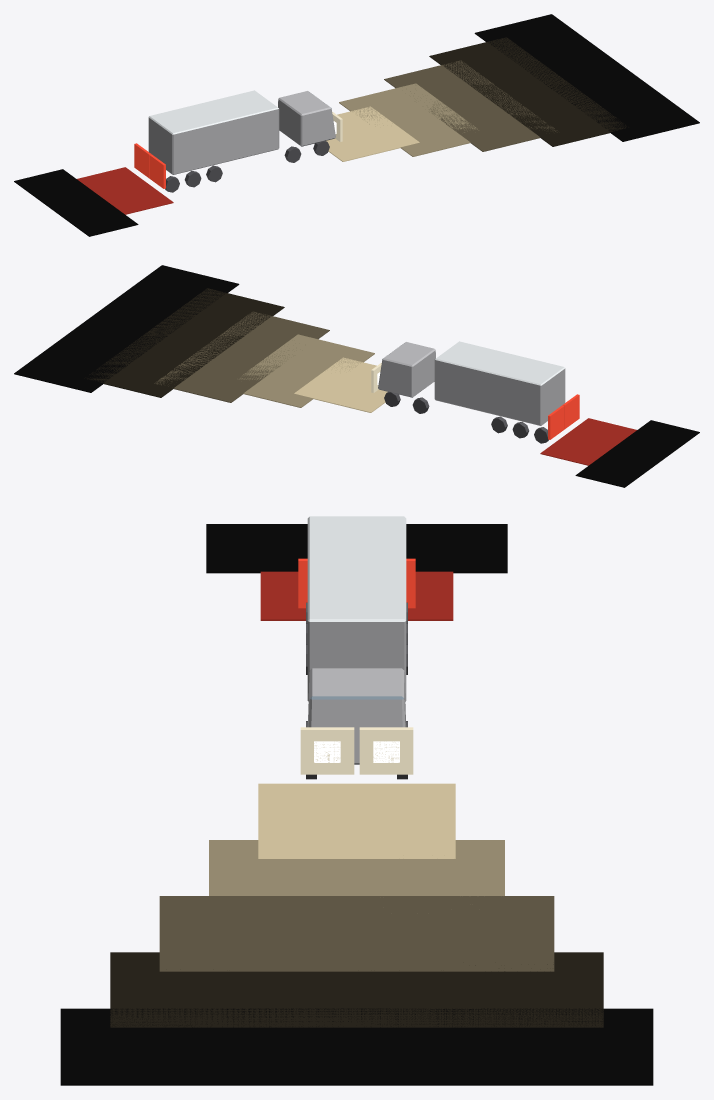
File: veh_artic_reefer.glb
3 renders of one model, top to bottom at view 1: azimuth 30°, elevation 25°; view 2: azimuth 150°, elevation 25°; view 3: azimuth 270°, elevation 25°, orthographic. The views are drawn at different scales.
Visible parts, largest first — view 1: veh_artic_reefer; view 2: veh_artic_reefer; view 3: veh_artic_reefer.
Boxes of the visible parts, x1,y1,x2,y2 form: veh_artic_reefer: [14, 14, 699, 236]; veh_artic_reefer: [14, 265, 699, 487]; veh_artic_reefer: [60, 516, 653, 1085].
Bounding box in the file's own units: 3.09 × 0.301 × 1.38.
